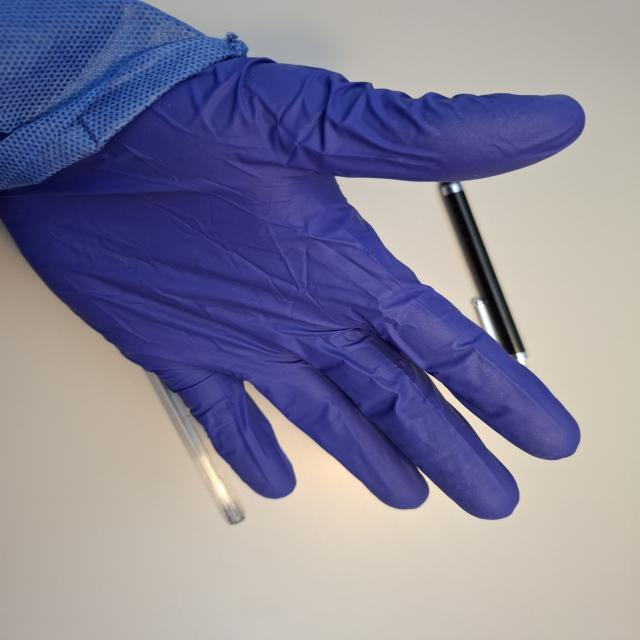glove_on: (1, 40, 590, 523)
